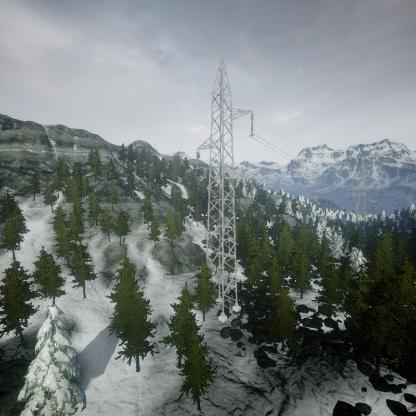tower: (193, 55, 258, 323)
